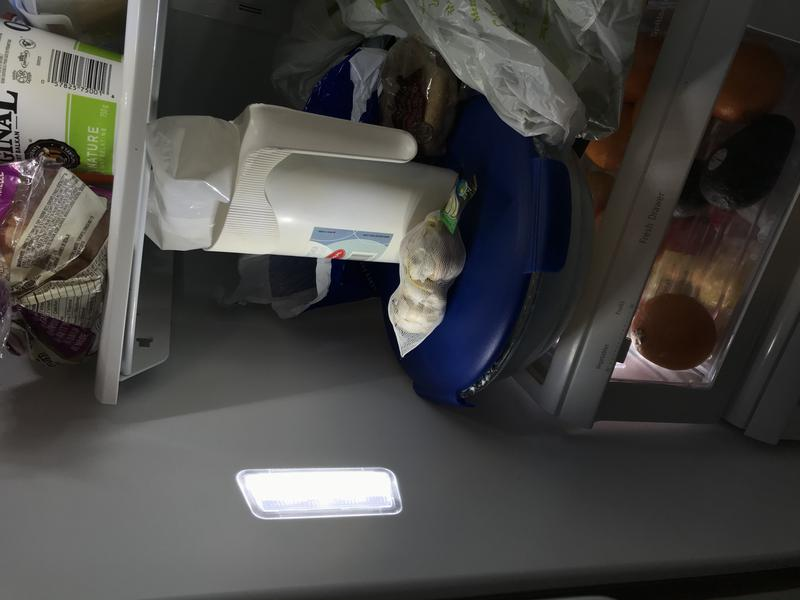garlic: (394, 206, 478, 287), (382, 280, 451, 336)
